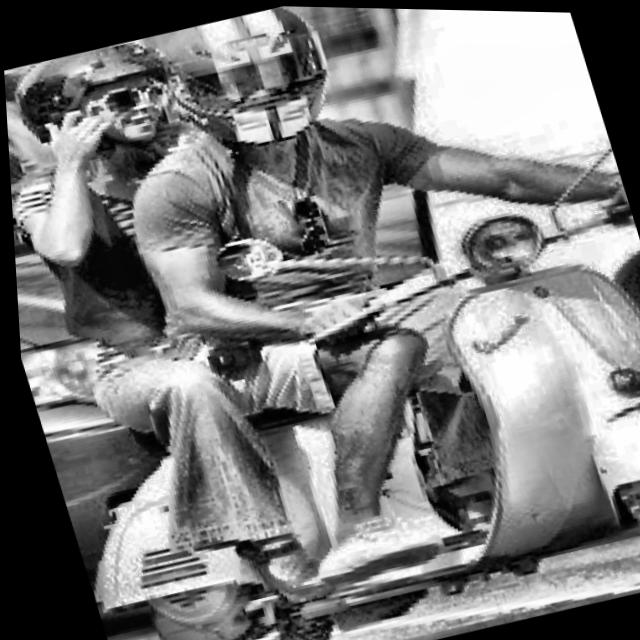motorcycle: (6, 131, 640, 640)
